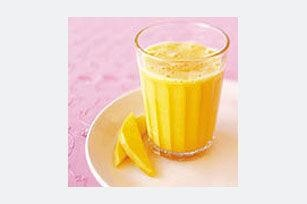background: (53, 13, 107, 56)
